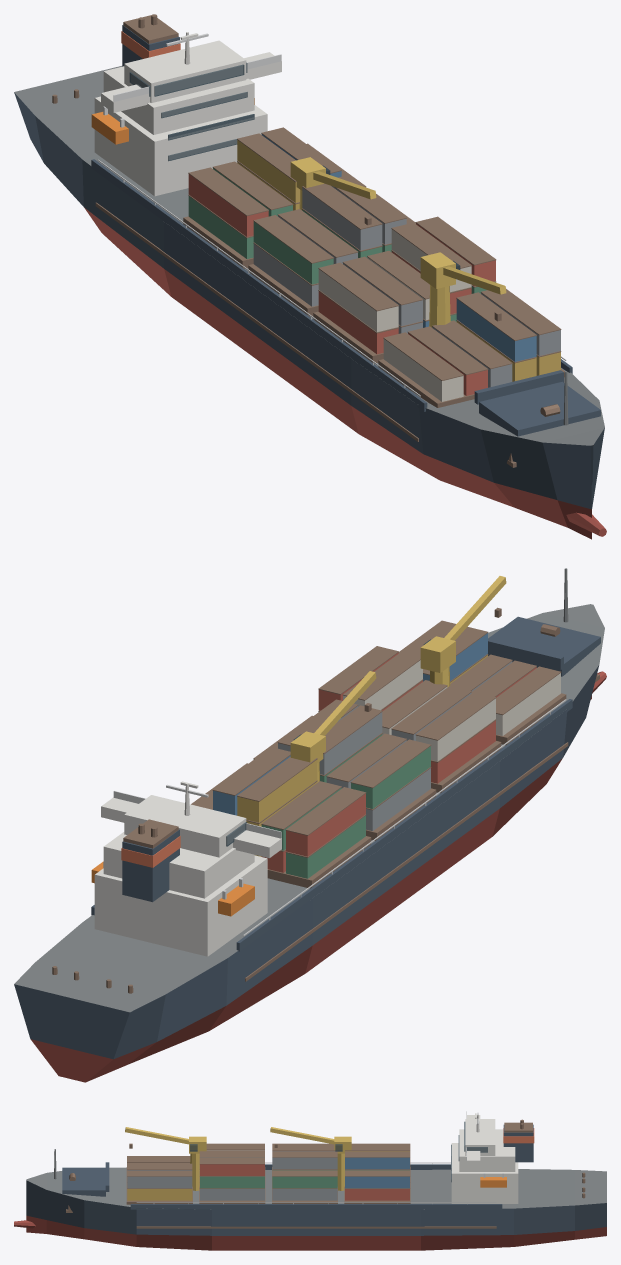
File: cargo_ship.glb
3 renders of one model, top to bottom at view 1: azimuth 30°, elevation 25°; view 2: azimuth 150°, elevation 25°; view 3: azimuth 270°, elevation 25°, orthographic. The views are drawn at different scales.
Parts seen in each view (by area): view 1: cargo_ship; view 2: cargo_ship; view 3: cargo_ship.
Boxes of the visible parts, x1,y1,x2,y2 form: cargo_ship: [14, 14, 606, 539]; cargo_ship: [14, 568, 606, 1082]; cargo_ship: [14, 1111, 606, 1250].
Bounding box in the file's own units: 18.7 × 22.4 × 102.
